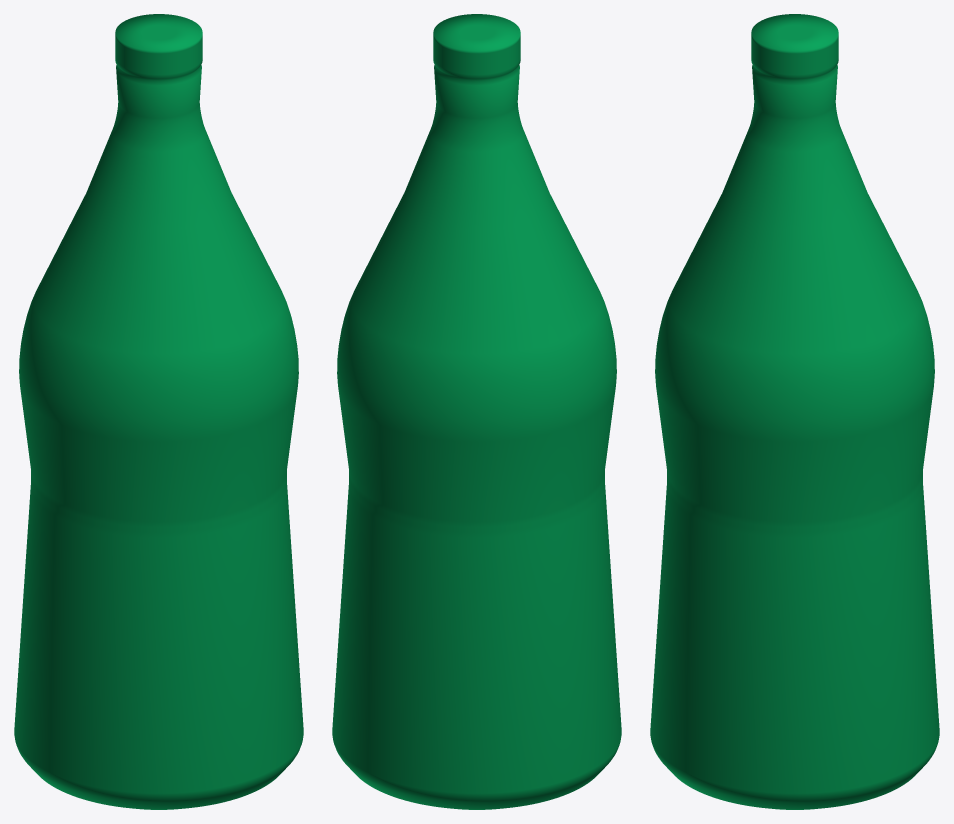
Rendered from botol.glb.
The picture shows the model from 3 angles, left to right: view 1: azimuth 30°, elevation 25°; view 2: azimuth 150°, elevation 25°; view 3: azimuth 270°, elevation 25°; orthographic projection.
Visible parts, largest first — view 1: Cylinder; view 2: Cylinder; view 3: Cylinder.
Boxes of the visible parts, x1=… form: Cylinder: x1=14, y1=14, x2=303, y2=809; Cylinder: x1=332, y1=14, x2=621, y2=809; Cylinder: x1=650, y1=14, x2=939, y2=809.
Bounding box in the file's own units: 0.3496 × 0.9809 × 0.3497.
